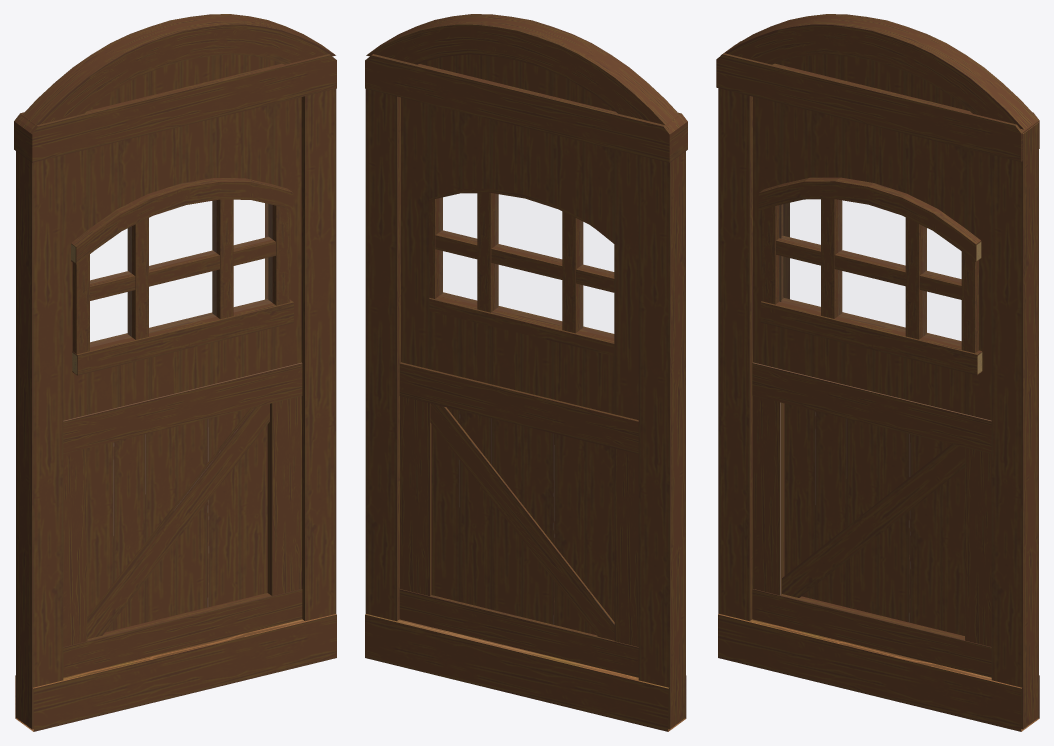
File: Door_1_Round.gltf
3 renders of one model, left to right at view 1: azimuth 30°, elevation 25°; view 2: azimuth 150°, elevation 25°; view 3: azimuth 330°, elevation 25°, orthographic.
Visible parts, largest first — view 1: Door_1_Round; view 2: Door_1_Round; view 3: Door_1_Round.
Part boxes in pixels (left/top/right/bottom): Door_1_Round: left=14, top=14, right=336, bottom=731; Door_1_Round: left=365, top=14, right=687, bottom=731; Door_1_Round: left=716, top=14, right=1039, bottom=731.
Bounding box in the file's own units: 1.12 × 2.32 × 0.1207.
2 materials, 1 textured.
